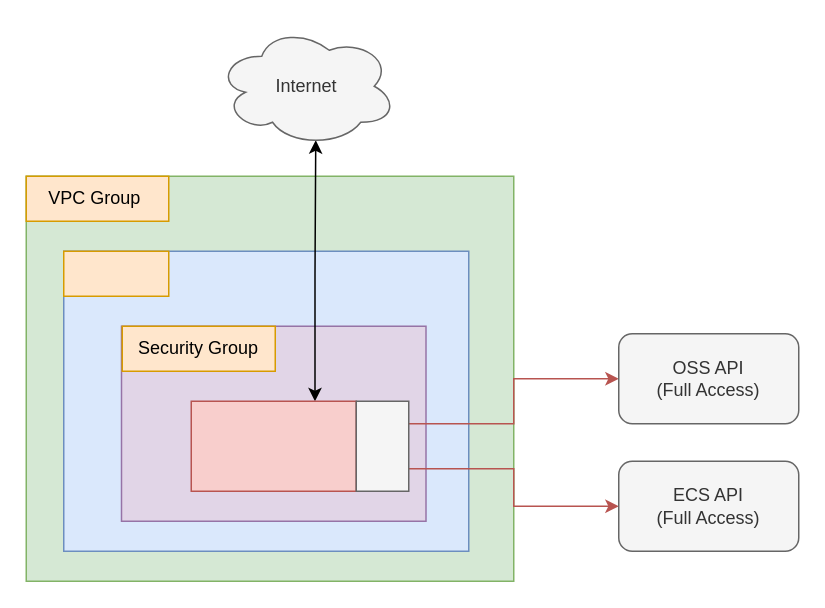
This 825x608 diagram has some shape labels left out. Here are the shapes that lost their labels. From the top down, the centre of each, then its label:
At (x=115, y=273): "VSwitch".
At (x=273, y=445): "Aliyun Linux (ECS)".
At (x=382, y=445): "RAM Role".
